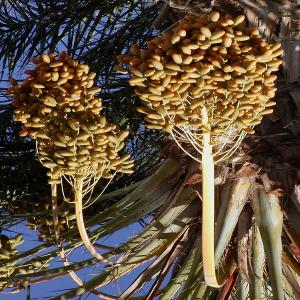palm tree: (1, 1, 298, 299)
